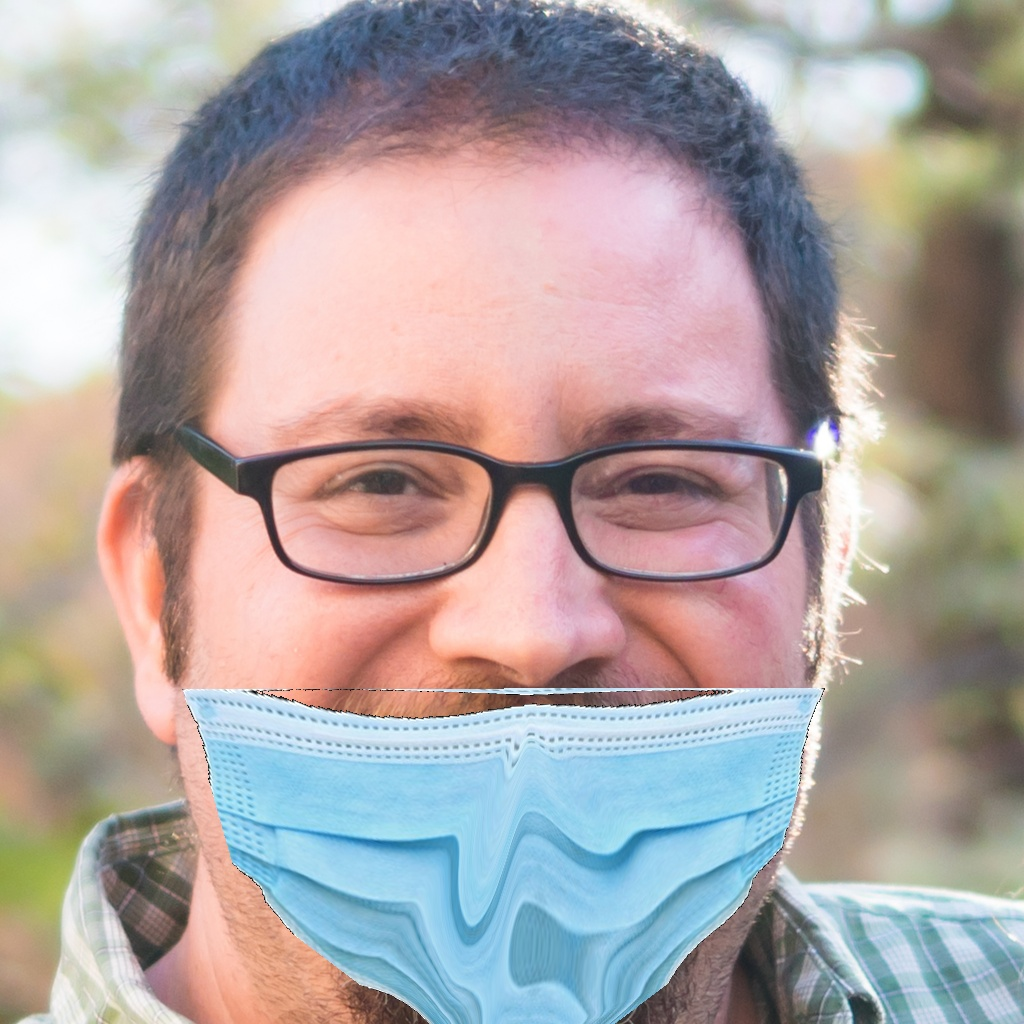mascarilla_mal_puesta: (169, 343, 824, 998)
